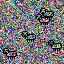sheep: (47, 40, 63, 52), (40, 8, 55, 20), (22, 31, 36, 42), (3, 48, 17, 59), (37, 14, 50, 25)
